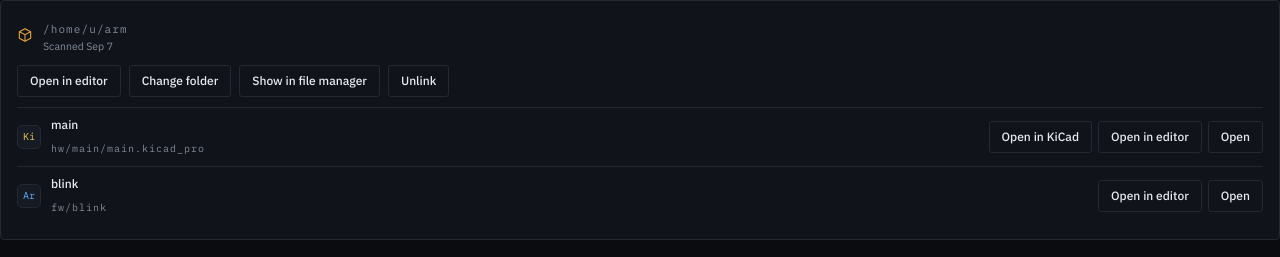
Test case: restores selection controls when unlink cancels a pending Change folder picker
Click the button "Change folder" at (180, 81), box [129,65,231,97]
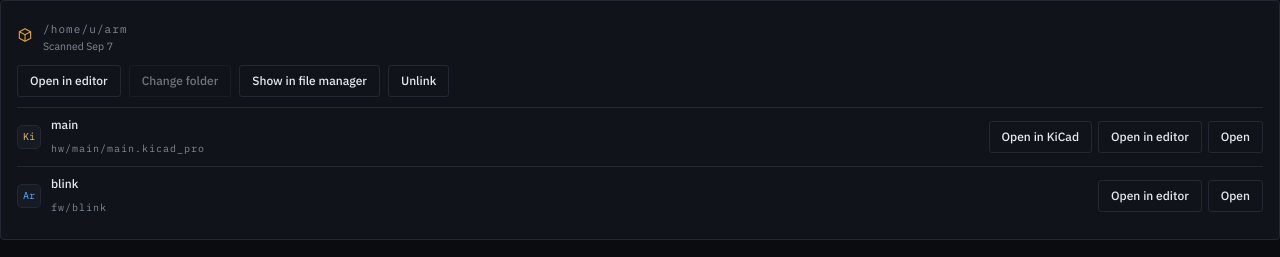
Click the button "Unlink" at (419, 81), box [388,65,449,97]
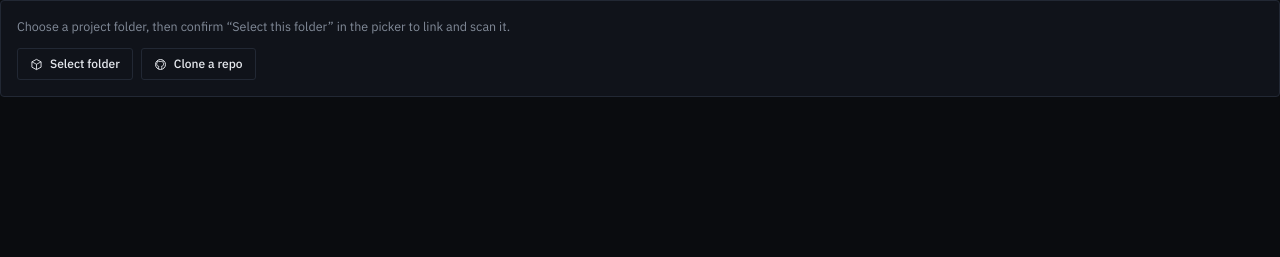
Check: the button "Select folder" is enabled, box [17,48,133,80]
